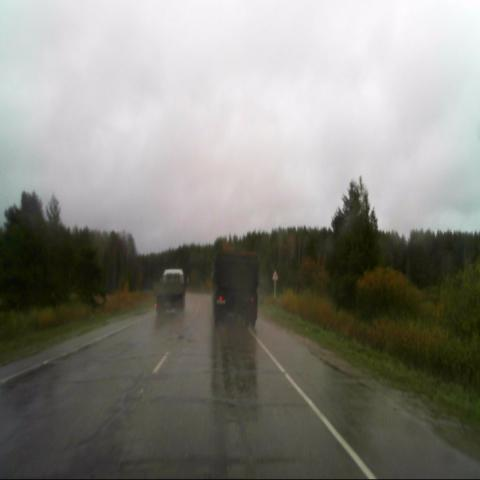2_3_2: (272, 269, 278, 280)
